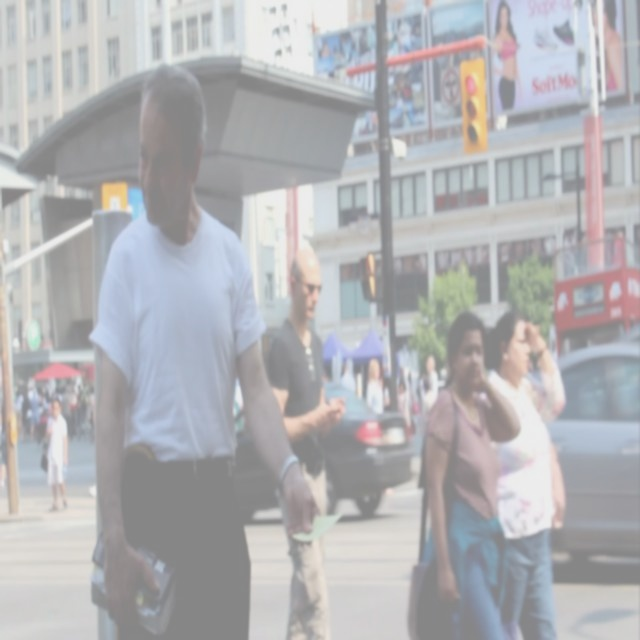pessoa: (91, 64, 317, 638), (404, 306, 524, 640), (265, 245, 348, 640), (481, 304, 567, 640), (421, 376, 498, 640), (488, 0, 631, 122), (339, 341, 448, 423), (6, 369, 95, 440), (45, 398, 69, 510), (366, 360, 384, 414), (0, 397, 10, 493), (426, 354, 438, 414)
